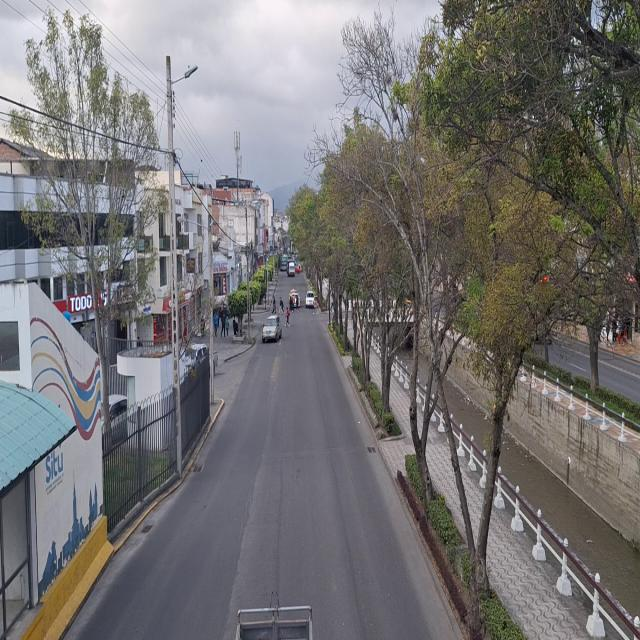SUV: (262, 316, 280, 342), (306, 292, 314, 307)
